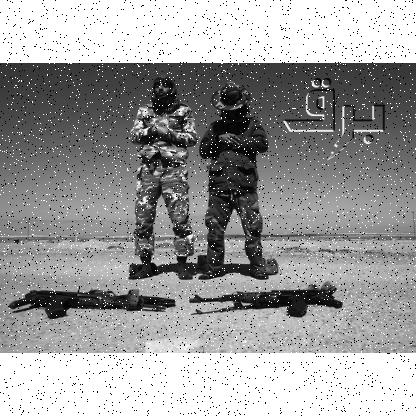gun: (184, 276, 344, 316), (3, 286, 176, 320)
